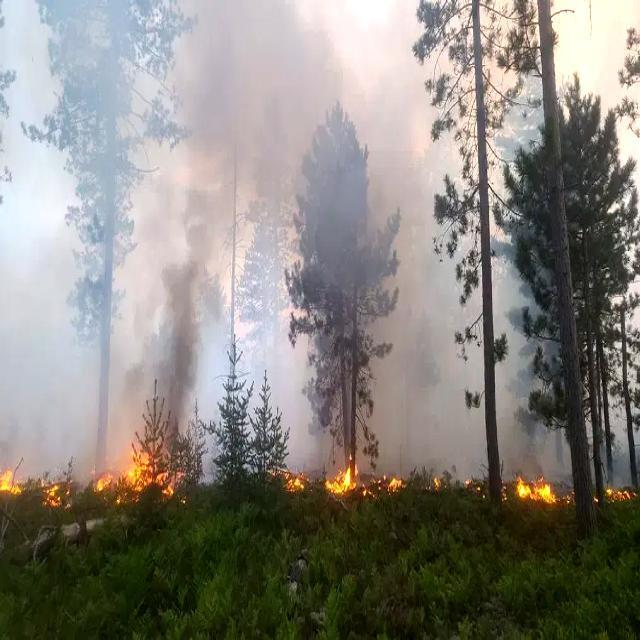Fire: (0, 446, 173, 511), (284, 453, 418, 508), (506, 472, 572, 516)
Smoke: (2, 5, 518, 441)
